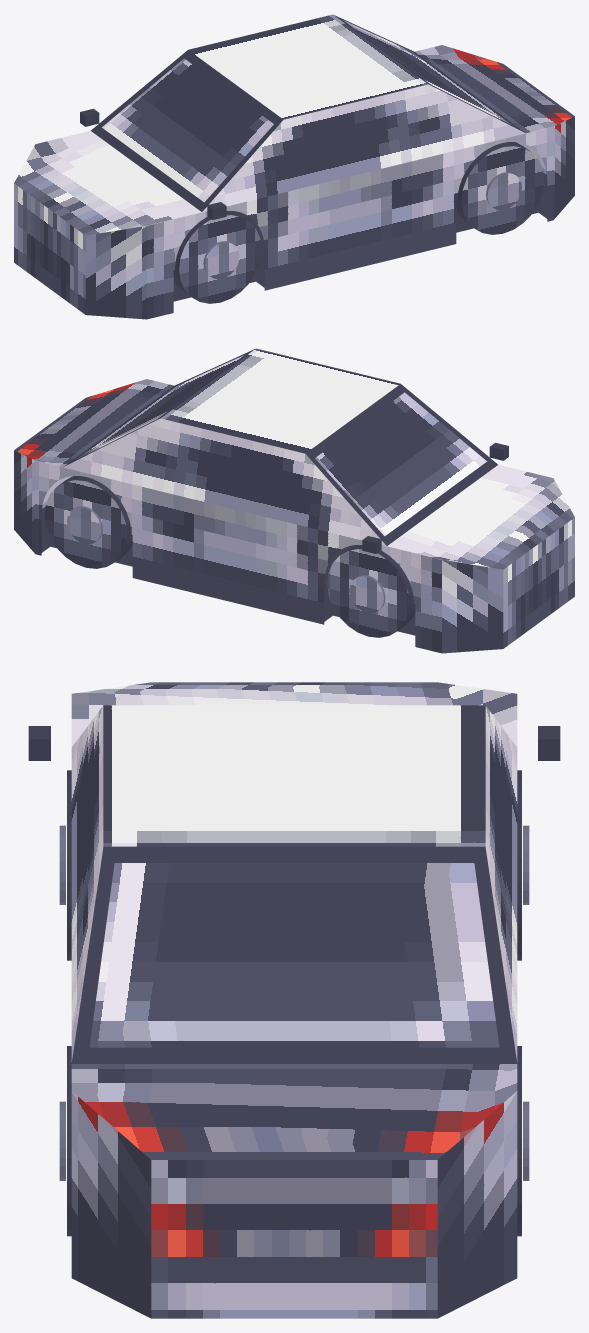
The model's file is car-23-v1.glb.
The picture shows the model from 3 angles, top to bottom: view 1: azimuth 30°, elevation 25°; view 2: azimuth 150°, elevation 25°; view 3: azimuth 270°, elevation 25°; orthographic projection. The views are drawn at different scales.
Parts seen in each view (by area): view 1: Passenger-body-west, Cabin-windows-west, Roof, Windshield-glass, Hood, Front-fascia, Trunk, Front-corner--1, Tire_RL, Tire_FL, Windshield-frame, Rear-window-glass (+7 smaller); view 2: Passenger-body-east, Cabin-windows-east, Roof, Windshield-glass, Hood, Front-fascia, Trunk, Front-corner-1, Tire_RR, Tire_FR, Windshield-frame, Rear-window-glass (+7 smaller); view 3: Rear-window-glass, Roof, Rear-fascia, Trunk, Rear-window-frame, Rear-corner-1, Rear-corner--1, Hood, Cabin-windows-east, Cabin-windows-west, Tire_FL, Tire_FR (+4 smaller).
Part boxes in pixels (left/top/right/bottom): Passenger-body-west: left=147, top=126, right=553, bottom=319; Cabin-windows-west: left=202, top=84, right=525, bottom=212; Roof: left=188, top=14, right=427, bottom=119; Windshield-glass: left=102, top=58, right=273, bottom=202; Hood: left=14, top=131, right=201, bottom=235; Front-fascia: left=14, top=183, right=85, bottom=314; Trunk: left=415, top=45, right=574, bottom=132; Front-corner--1: left=85, top=225, right=146, bottom=319; Tire_RL: left=456, top=142, right=544, bottom=234; Tire_FL: left=173, top=211, right=261, bottom=303; Windshield-frame: left=91, top=50, right=283, bottom=211; Rear-window-glass: left=343, top=20, right=513, bottom=125; Passenger-body-east: left=35, top=460, right=441, bottom=653; Cabin-windows-east: left=63, top=418, right=386, bottom=546; Roof: left=161, top=348, right=400, bottom=453; Windshield-glass: left=315, top=392, right=486, bottom=536; Hood: left=387, top=465, right=574, bottom=569; Front-fascia: left=503, top=517, right=574, bottom=648; Trunk: left=14, top=379, right=173, bottom=466; Front-corner-1: left=442, top=559, right=503, bottom=653; Tire_RR: left=44, top=476, right=132, bottom=568; Tire_FR: left=327, top=545, right=415, bottom=637; Windshield-frame: left=305, top=384, right=497, bottom=545; Rear-window-glass: left=75, top=354, right=245, bottom=459; Rear-window-glass: left=89, top=863, right=499, bottom=1047; Roof: left=103, top=705, right=485, bottom=846; Rear-fascia: left=151, top=1160, right=437, bottom=1318; Trunk: left=71, top=1064, right=517, bottom=1159; Rear-window-frame: left=71, top=846, right=517, bottom=1063; Rear-corner-1: left=437, top=1091, right=517, bottom=1318; Rear-corner--1: left=71, top=1091, right=151, bottom=1318; Hood: left=71, top=682, right=517, bottom=746; Cabin-windows-east: left=485, top=706, right=517, bottom=1062; Cabin-windows-west: left=71, top=706, right=103, bottom=1062; Tire_FL: left=67, top=770, right=71, bottom=960; Tire_FR: left=517, top=770, right=521, bottom=960.
Size of the model in its own units: 71 by 22 by 33.4.
1 material, 1 textured.
